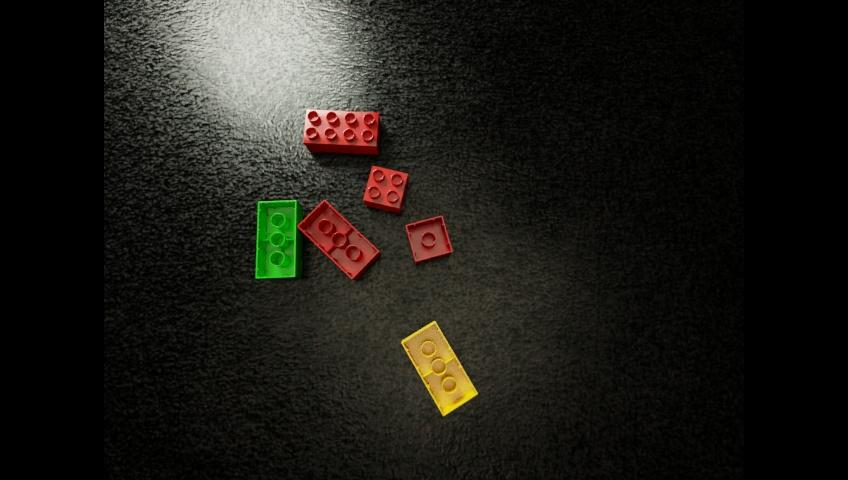2x2_red: (405, 215, 451, 263), (363, 165, 407, 213)
4x2_green: (255, 200, 302, 278)
4x2_red: (297, 199, 380, 280), (303, 109, 380, 154)
4x2_yellow: (402, 320, 476, 415)
